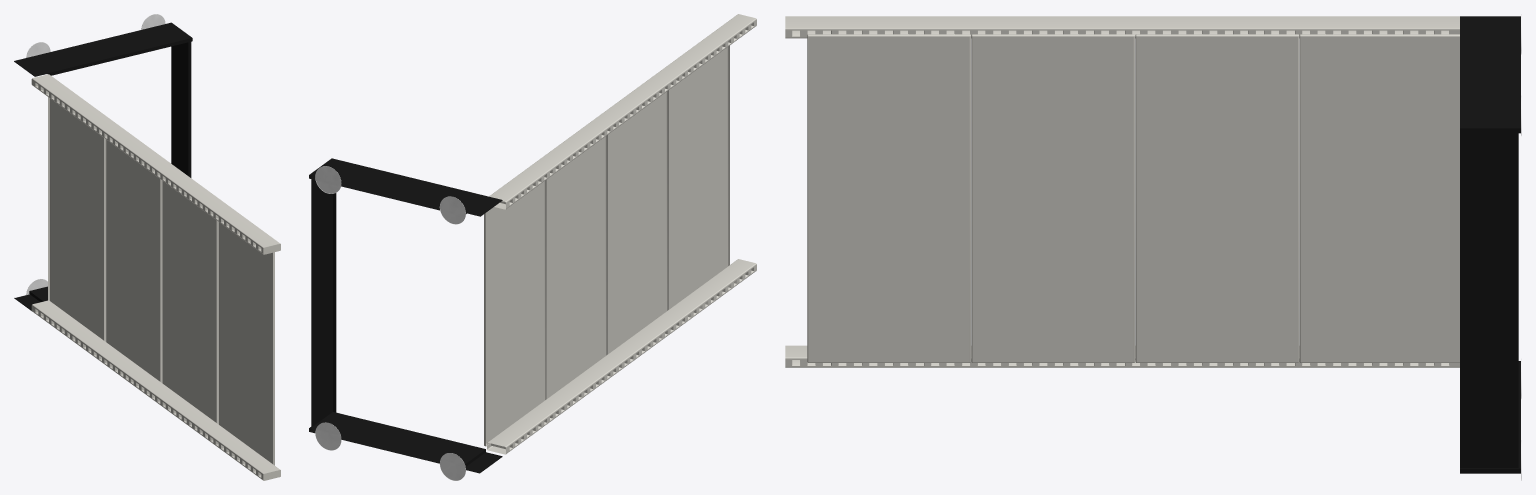
The model's file is ShelvesBase07.obj.
The picture shows the model from 3 angles, left to right: view 1: azimuth 30°, elevation 25°; view 2: azimuth 150°, elevation 25°; view 3: azimuth 270°, elevation 25°; orthographic projection. The views are drawn at different scales.
Visible parts, largest first — view 1: ShelvesBase07; view 2: ShelvesBase07; view 3: ShelvesBase07.
Part boxes in pixels (bbox=[...]): ShelvesBase07: bbox=[14, 14, 280, 480]; ShelvesBase07: bbox=[309, 14, 756, 480]; ShelvesBase07: bbox=[785, 14, 1521, 480].
Bounding box in the file's own units: 0.7323 × 1.14 × 2.
Materials: 3 (1 with a texture image).
